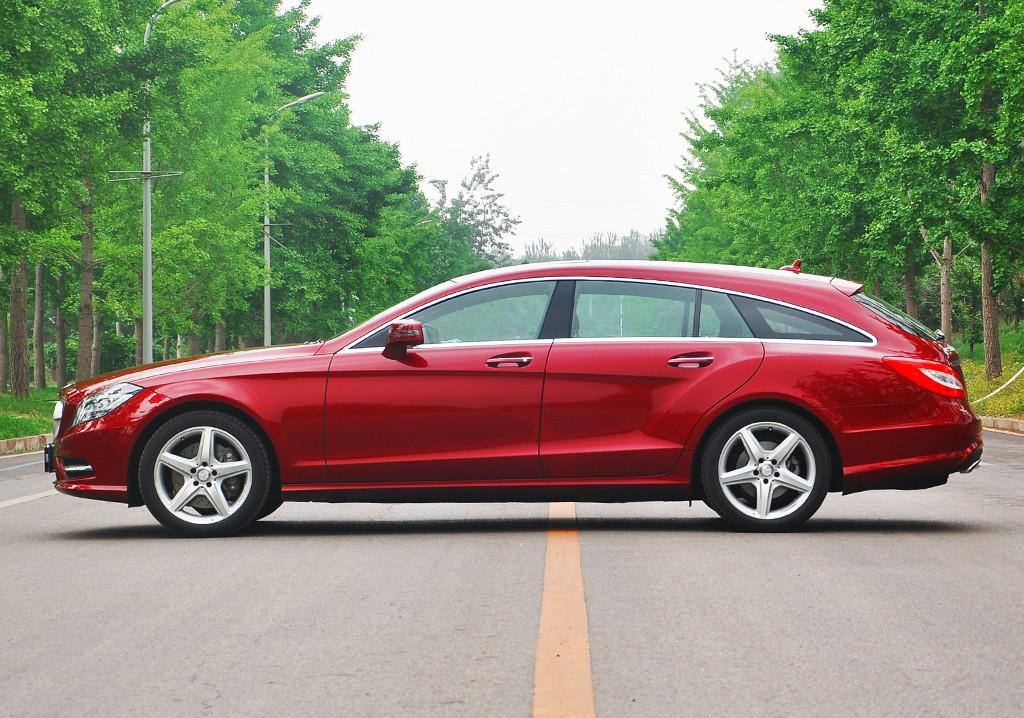Wagon: (43, 260, 981, 537)
